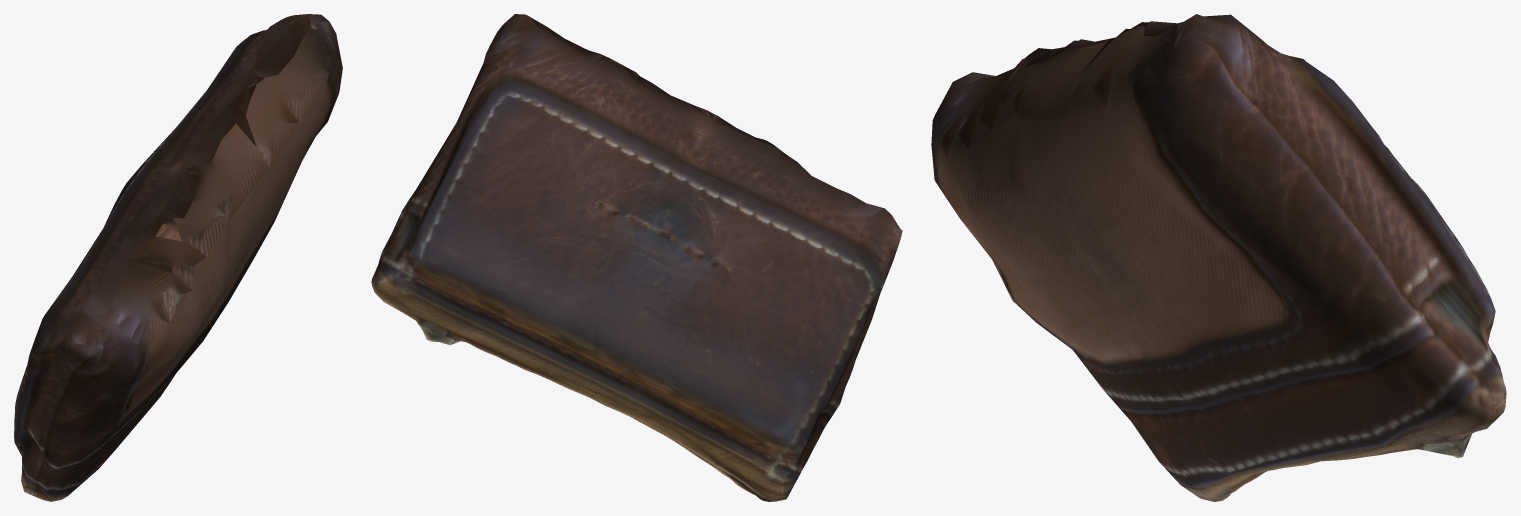
File: Jank Wallet.fbx
The picture shows the model from 3 angles, left to right: view 1: azimuth 30°, elevation 25°; view 2: azimuth 150°, elevation 25°; view 3: azimuth 270°, elevation 25°; orthographic projection. The views are drawn at different scales.
Visible parts, largest first — view 1: Wallet_2; view 2: Wallet_2; view 3: Wallet_2.
Boxes of the visible parts, x1=… form: Wallet_2: x1=14, y1=14, x2=342, y2=501; Wallet_2: x1=371, y1=14, x2=902, y2=501; Wallet_2: x1=931, y1=14, x2=1506, y2=501.
Size of the model in its own units: 513 by 545 by 421.
